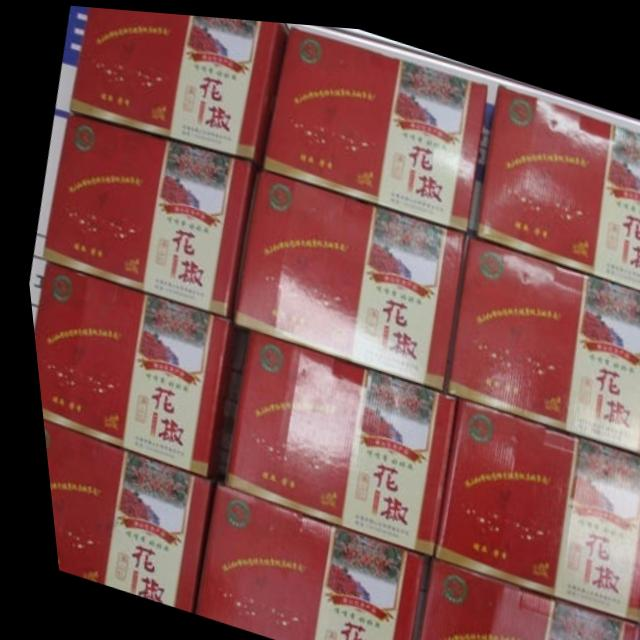box: (212, 323, 448, 550), (226, 164, 463, 385), (422, 389, 640, 614), (258, 25, 487, 227), (36, 108, 259, 315), (434, 227, 640, 447), (27, 260, 231, 474), (180, 478, 415, 640), (470, 77, 640, 282), (67, 6, 289, 162), (34, 421, 207, 611), (405, 550, 629, 640)
